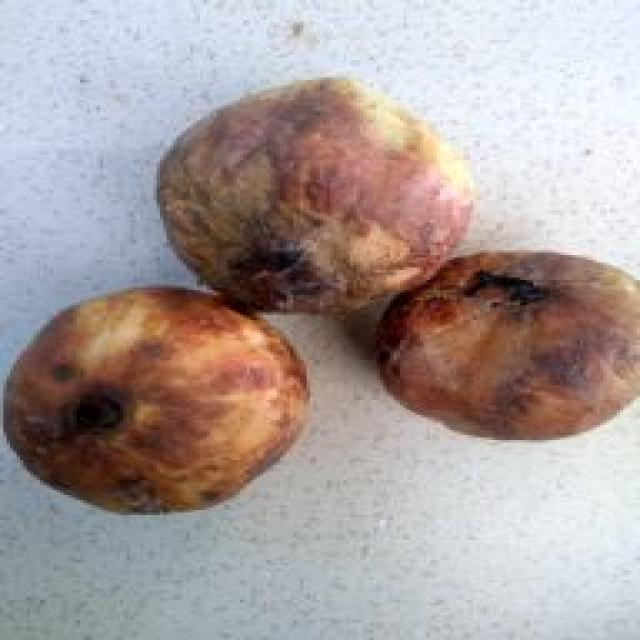Bad_Guava: (158, 78, 473, 314), (5, 288, 308, 512), (383, 252, 638, 438)
